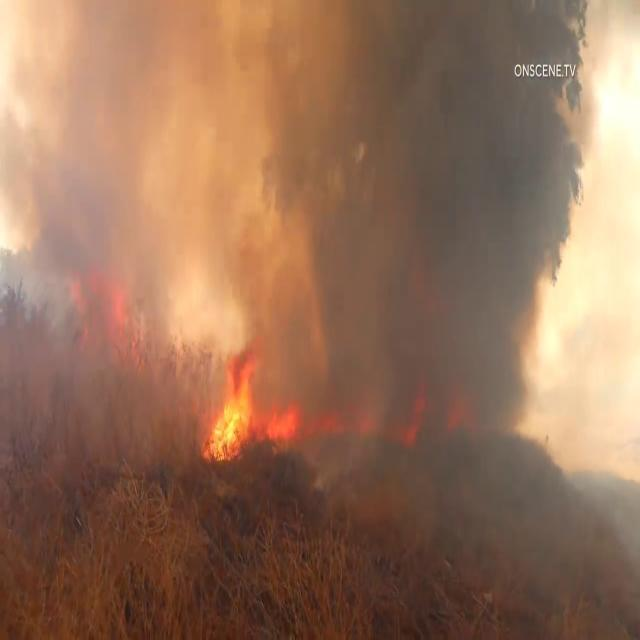Fire: (204, 348, 302, 462)
Smoke: (293, 2, 612, 540), (0, 3, 306, 449)
